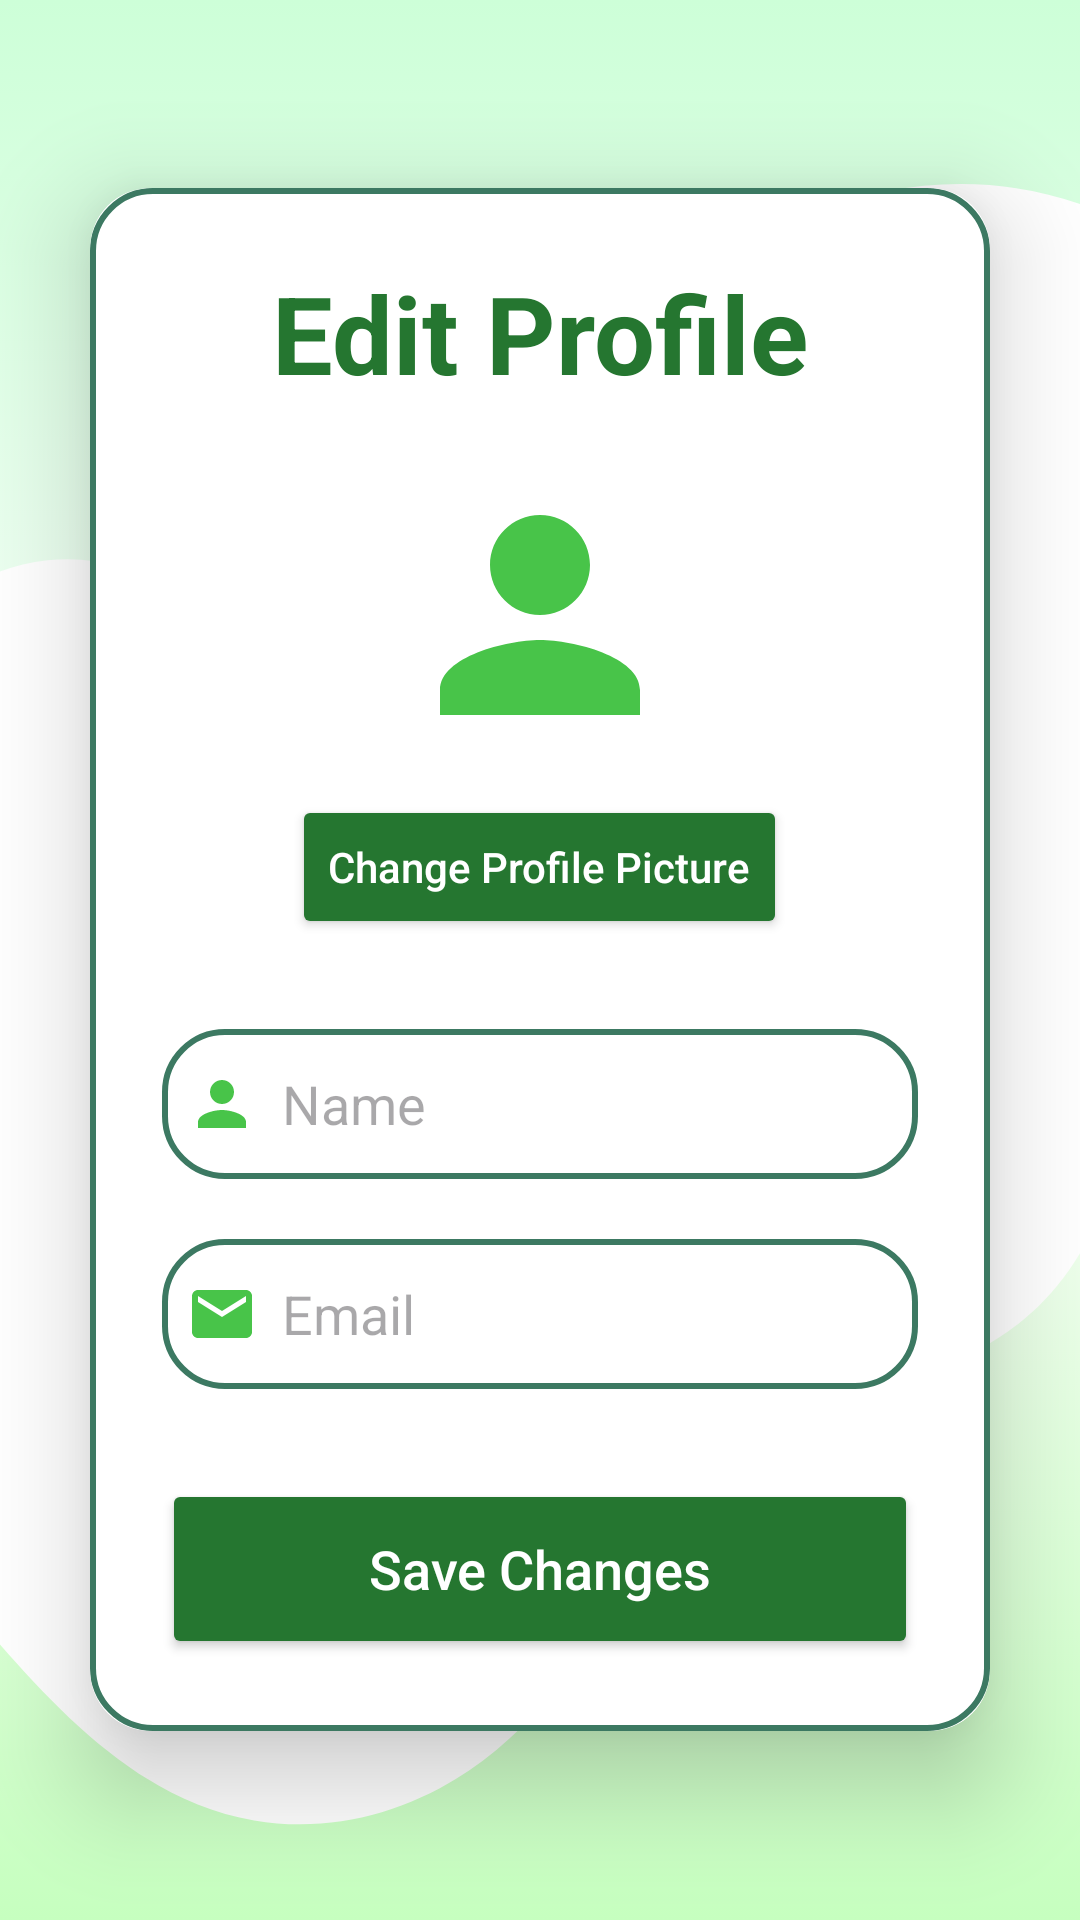

Named icons in this screenshot (1080w x 1920h) and their centers, point (x, y):
person: point (540, 615)
